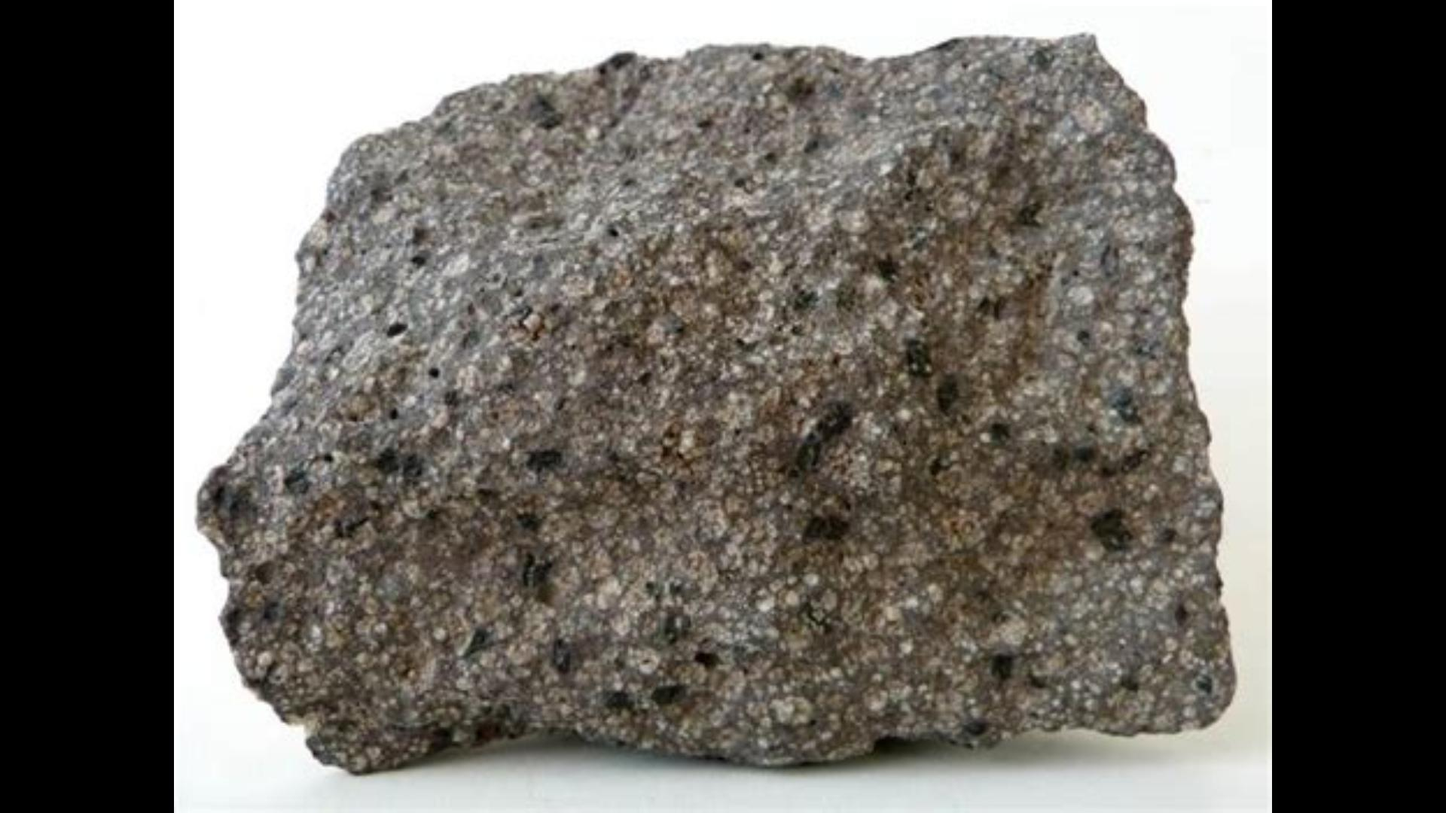rock: (199, 37, 1233, 771)
